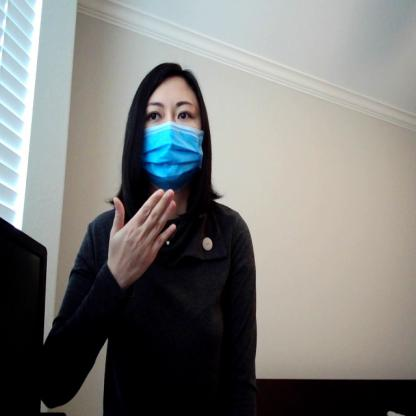thanks: (107, 183, 181, 283)
